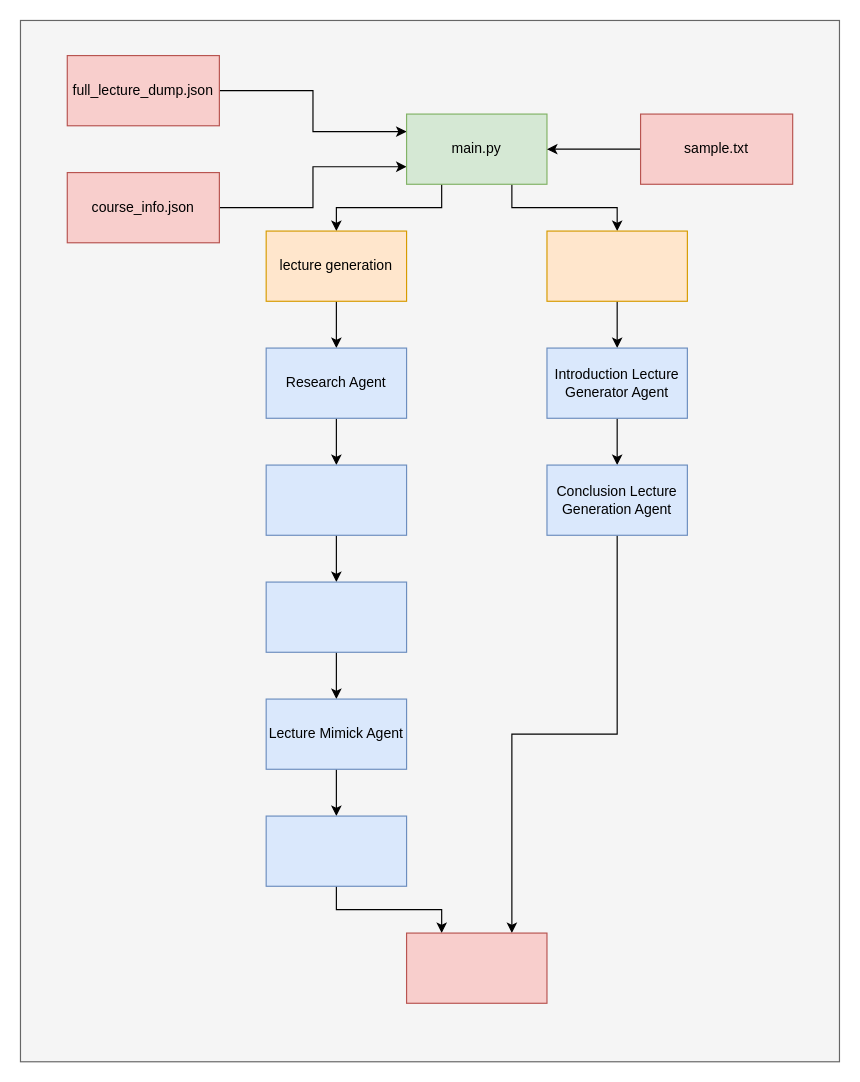
The diagram is 860 pixels wide and 1082 high, and some of its shapes have lost their labels. Each missing label, with the centre of its shape:
"Fact Check Agent" goes at point 336,850.
"Final Lecture Series" goes at point 476,967.
"introduction and conclusion generation" goes at point 616,265.
"Lecture Generator Agent" goes at point 336,616.
"Structure Designer Agent" goes at point 336,499.
